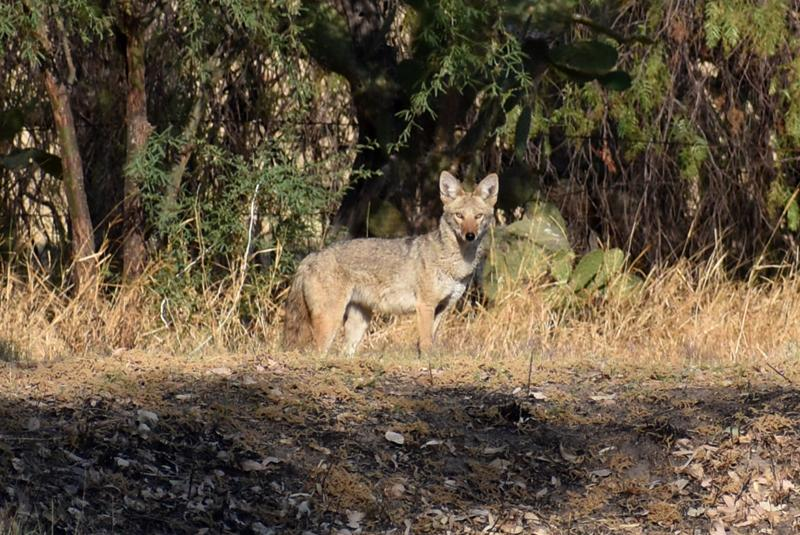Coyote: (283, 169, 503, 363)
